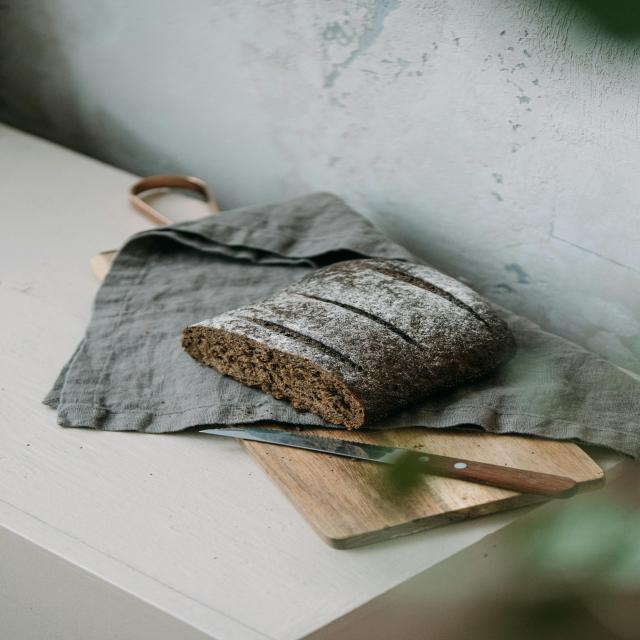knife: (201, 428, 579, 498)
